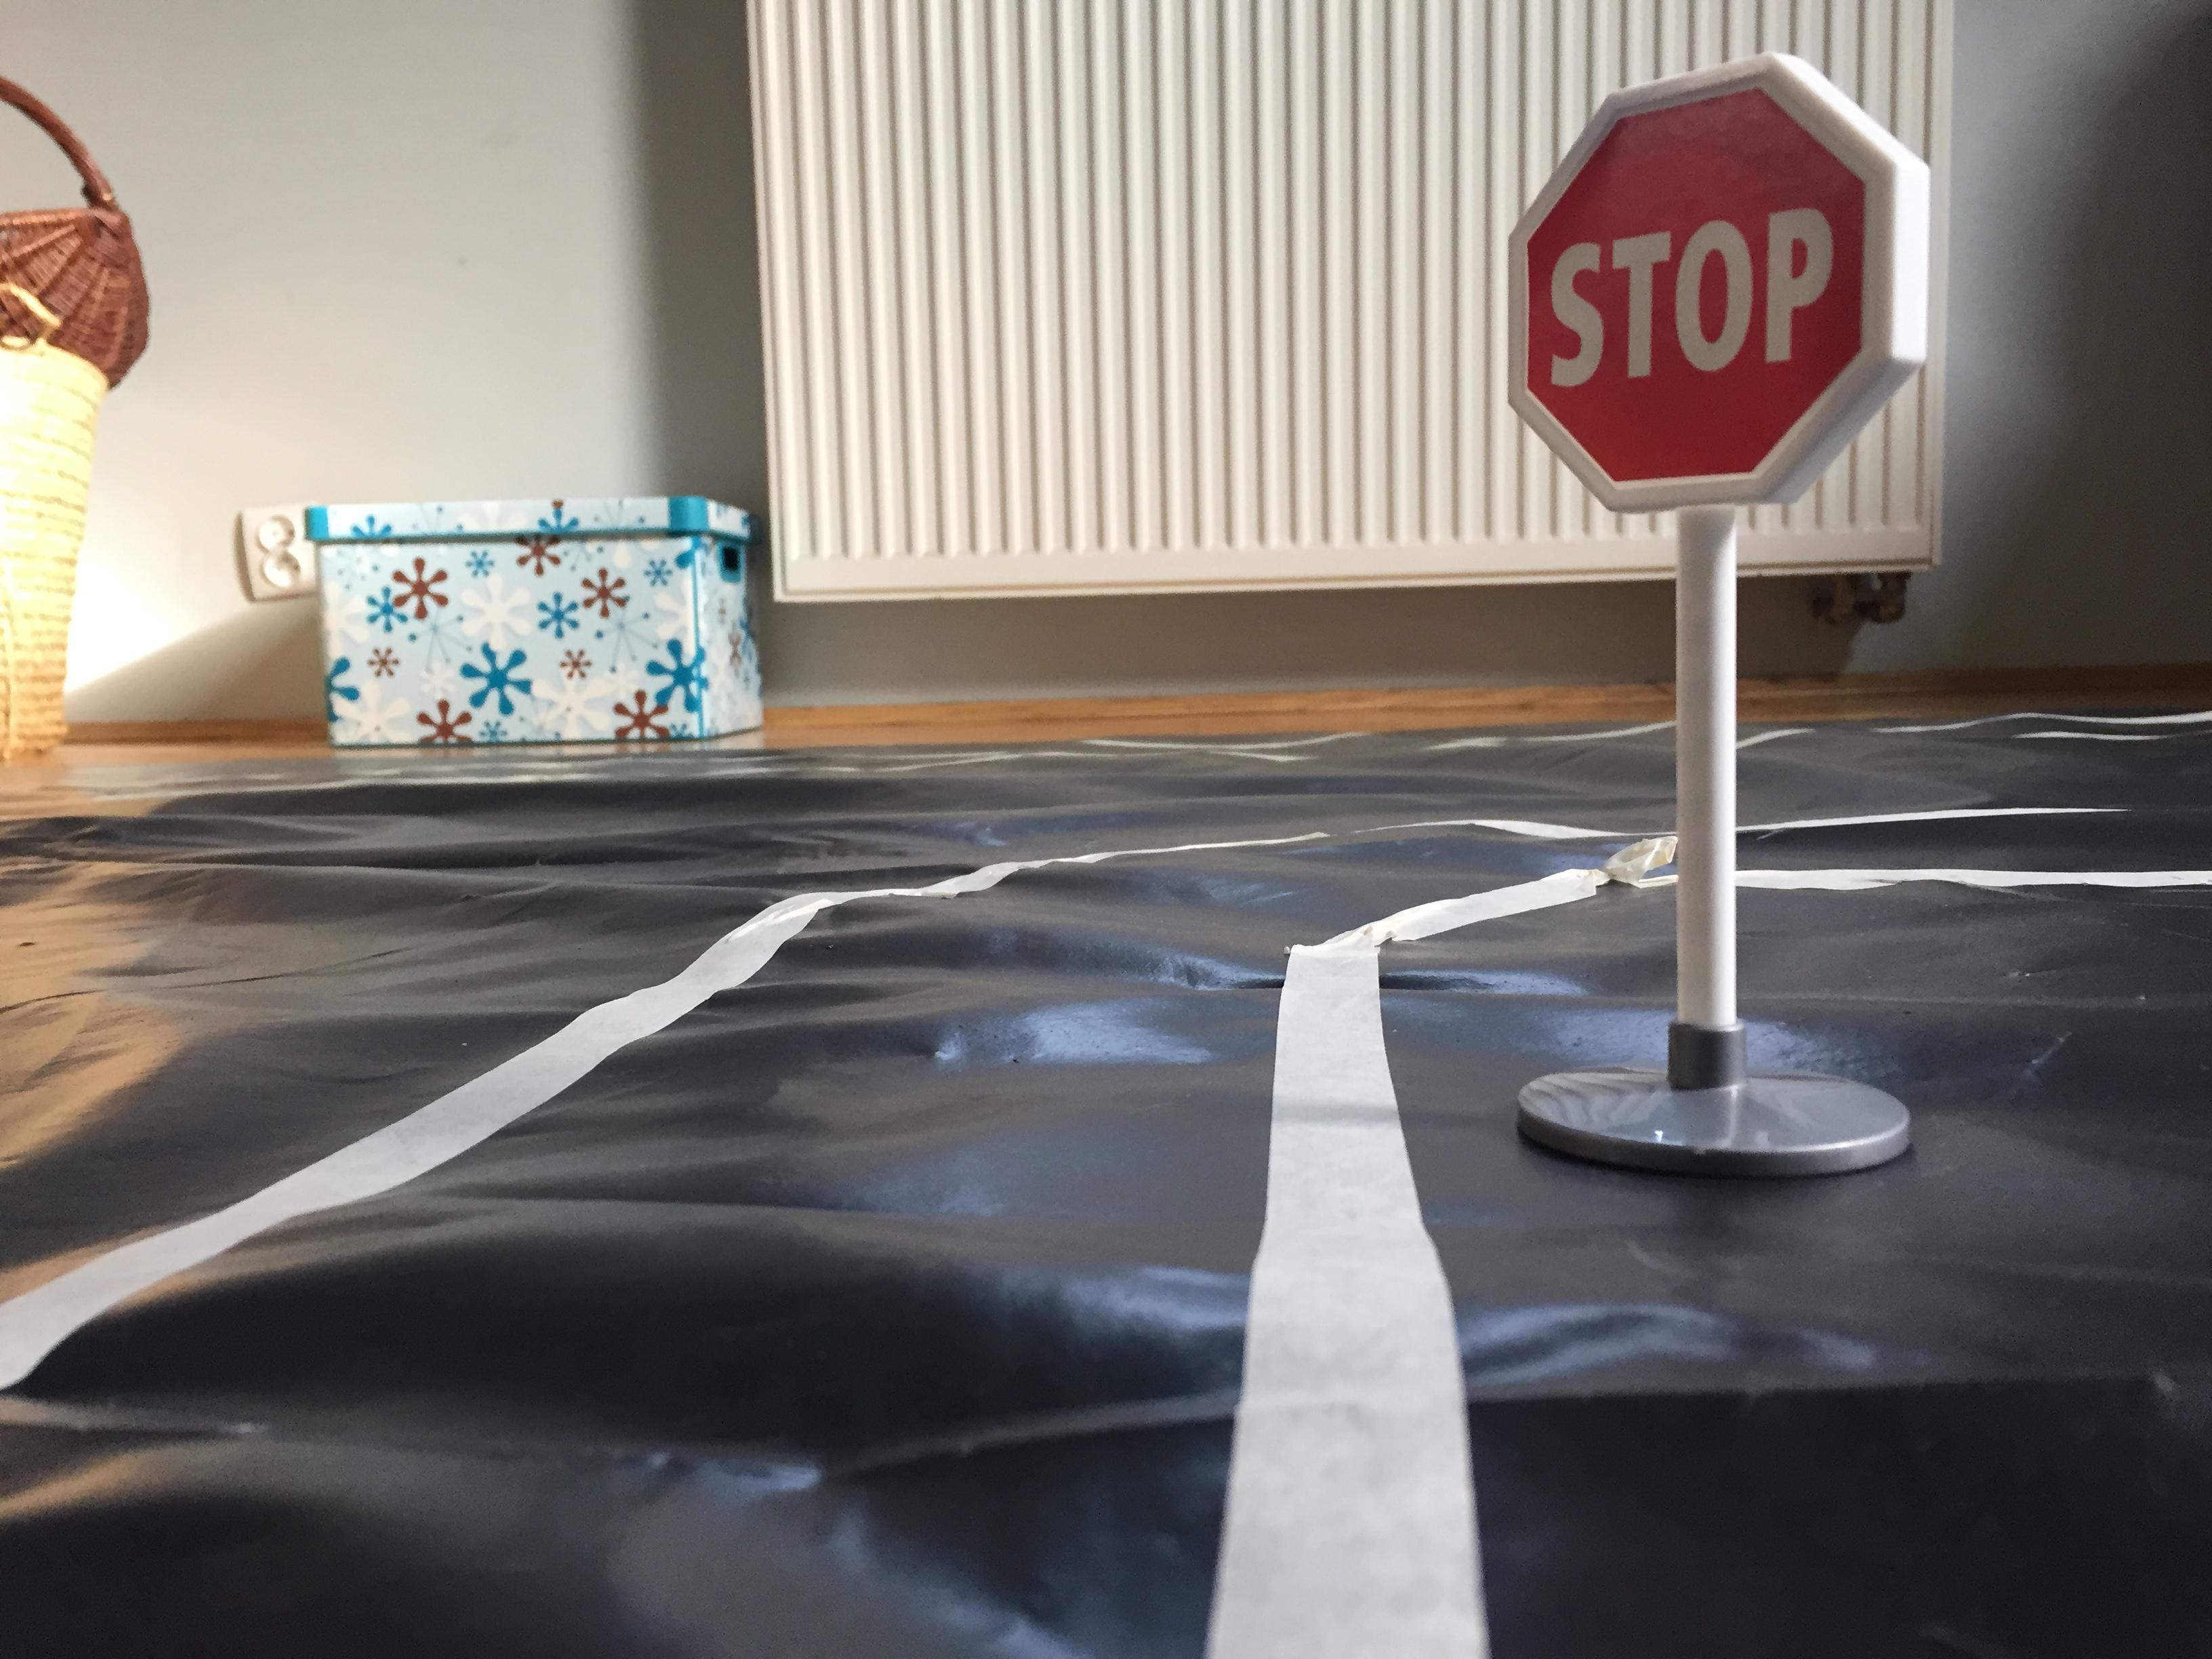stop: (1487, 42, 1949, 542)
